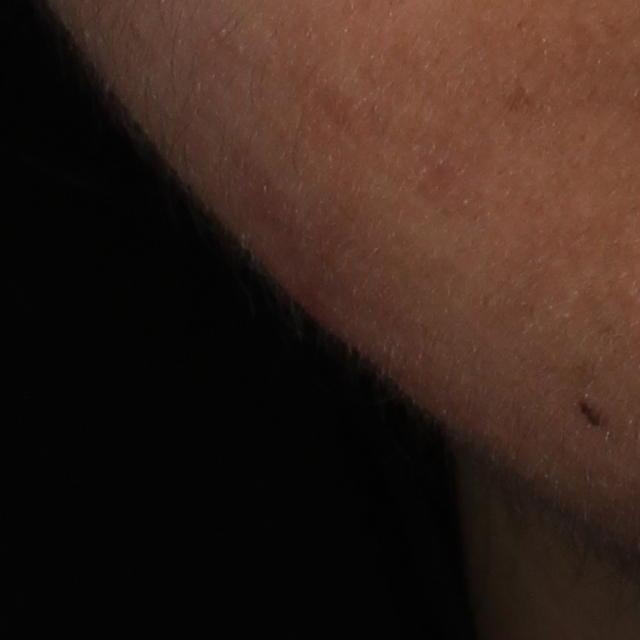nevus: (575, 395, 612, 432)
